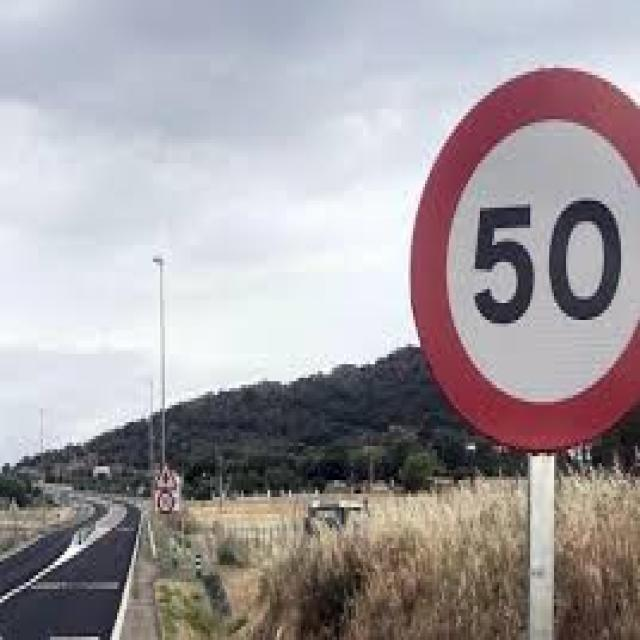Speed limit 50: (407, 62, 639, 454)
